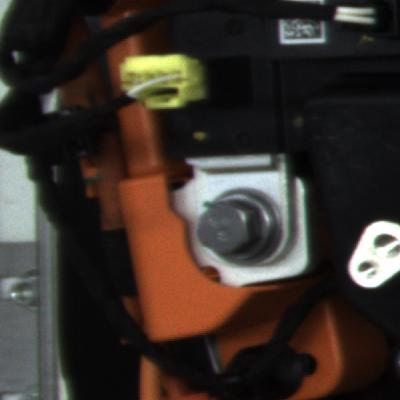nut_b: (174, 175, 286, 272)
